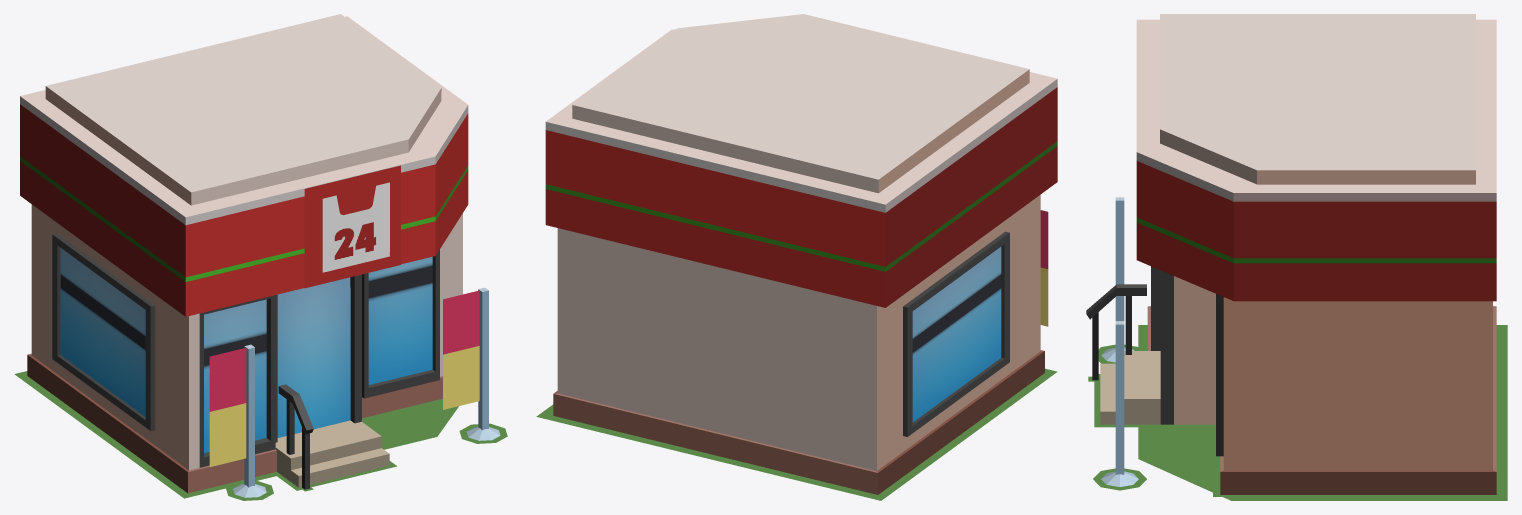
The model's file is bg_poi_014.fbx.
3 views of the same model, side by side, from view 1: azimuth 30°, elevation 25°; view 2: azimuth 150°, elevation 25°; view 3: azimuth 270°, elevation 25° (orthographic). The views are drawn at different scales.
Parts seen in each view (by area): view 1: popura; view 2: popura; view 3: popura.
Part boxes in pixels (x1=…): popura: x1=14, y1=14, x2=507, y2=500; popura: x1=536, y1=14, x2=1057, y2=500; popura: x1=1086, y1=14, x2=1507, y2=500.
Bounding box in the file's own units: 988 × 837 × 999.
